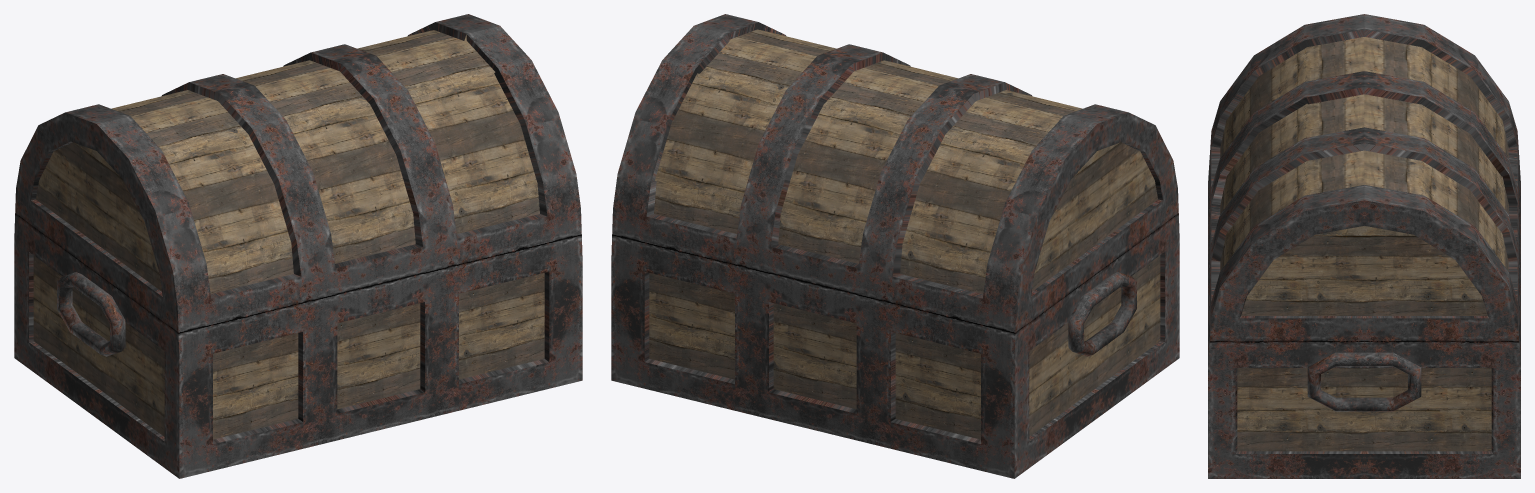
Rendered from items_box_wooden_large_lod01.fbx.
The picture shows the model from 3 angles, left to right: view 1: azimuth 30°, elevation 25°; view 2: azimuth 150°, elevation 25°; view 3: azimuth 270°, elevation 25°; orthographic projection. The views are drawn at different scales.
Parts seen in each view (by area): view 1: items_box_wooden_large_lod01; view 2: items_box_wooden_large_lod01; view 3: items_box_wooden_large_lod01.
Boxes of the visible parts, box(x1,y1,x2,y2) form: items_box_wooden_large_lod01: box(14, 14, 582, 478); items_box_wooden_large_lod01: box(611, 14, 1179, 478); items_box_wooden_large_lod01: box(1208, 14, 1520, 478).
Bounding box in the file's own units: 111 × 73.03 × 74.3.
